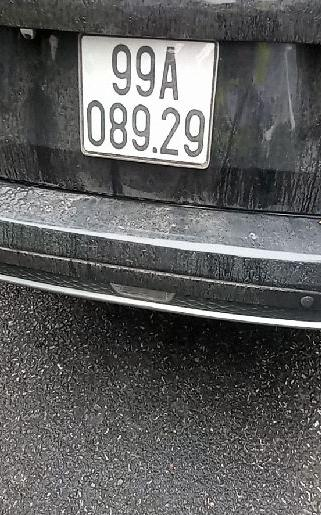Plate-iWeP: (77, 35, 214, 167)
